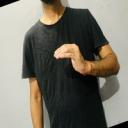hand: (53, 43, 89, 75)
